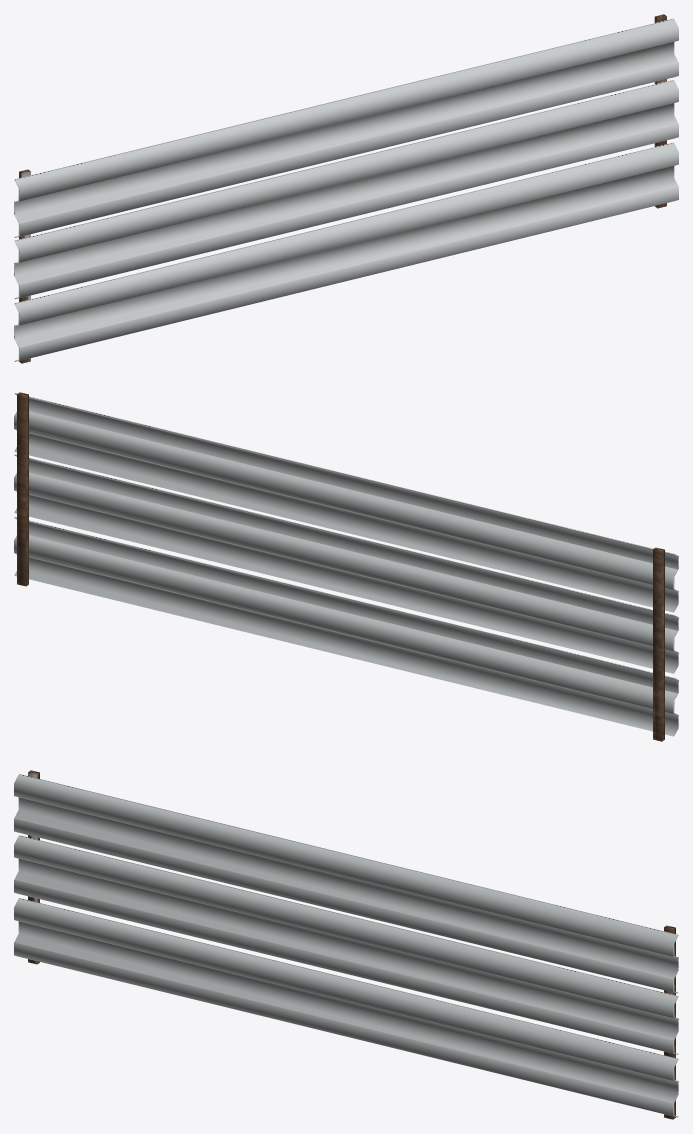
File: circuit_metal_barrier.glb
The picture shows the model from 3 angles, top to bottom: view 1: azimuth 30°, elevation 25°; view 2: azimuth 150°, elevation 25°; view 3: azimuth 330°, elevation 25°; orthographic projection.
Visible parts, largest first — view 1: polySurface62; view 2: polySurface62; view 3: polySurface62.
Boxes of the visible parts, x1,y1,x2,y2 form: polySurface62: [14, 14, 678, 363]; polySurface62: [14, 392, 678, 741]; polySurface62: [14, 770, 678, 1119].
Bounding box in the file's own units: 33.23 × 9.15 × 0.7683.
Materials: 1 (1 with a texture image).
